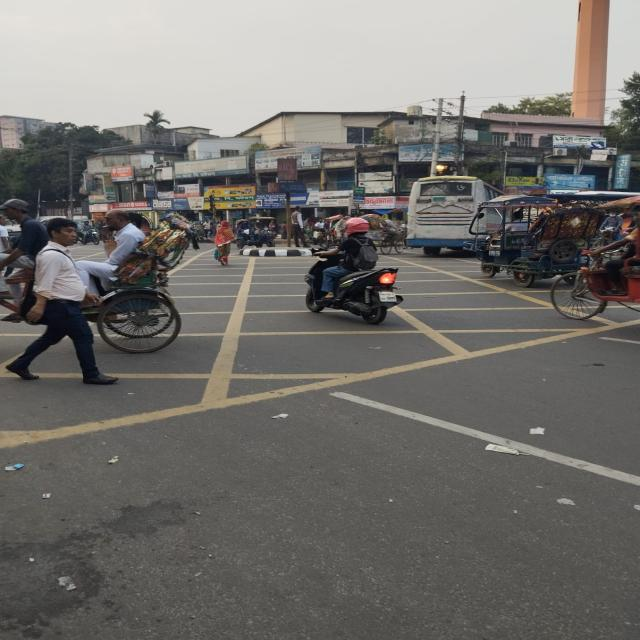person: (6, 217, 118, 386), (214, 220, 235, 266)
